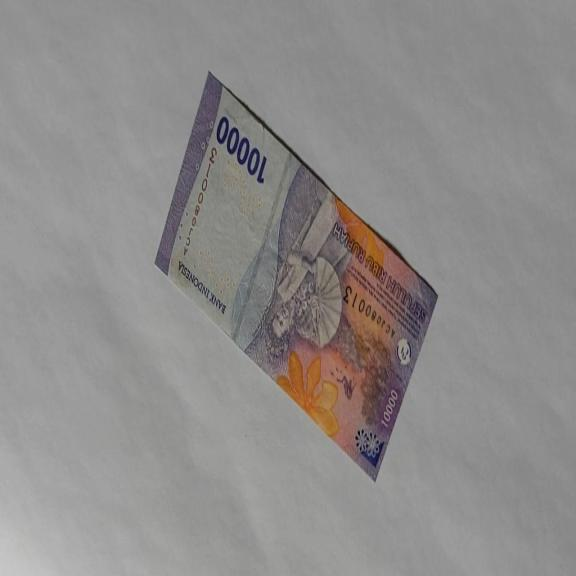Kertas: (154, 69, 439, 483), (215, 114, 268, 184)
